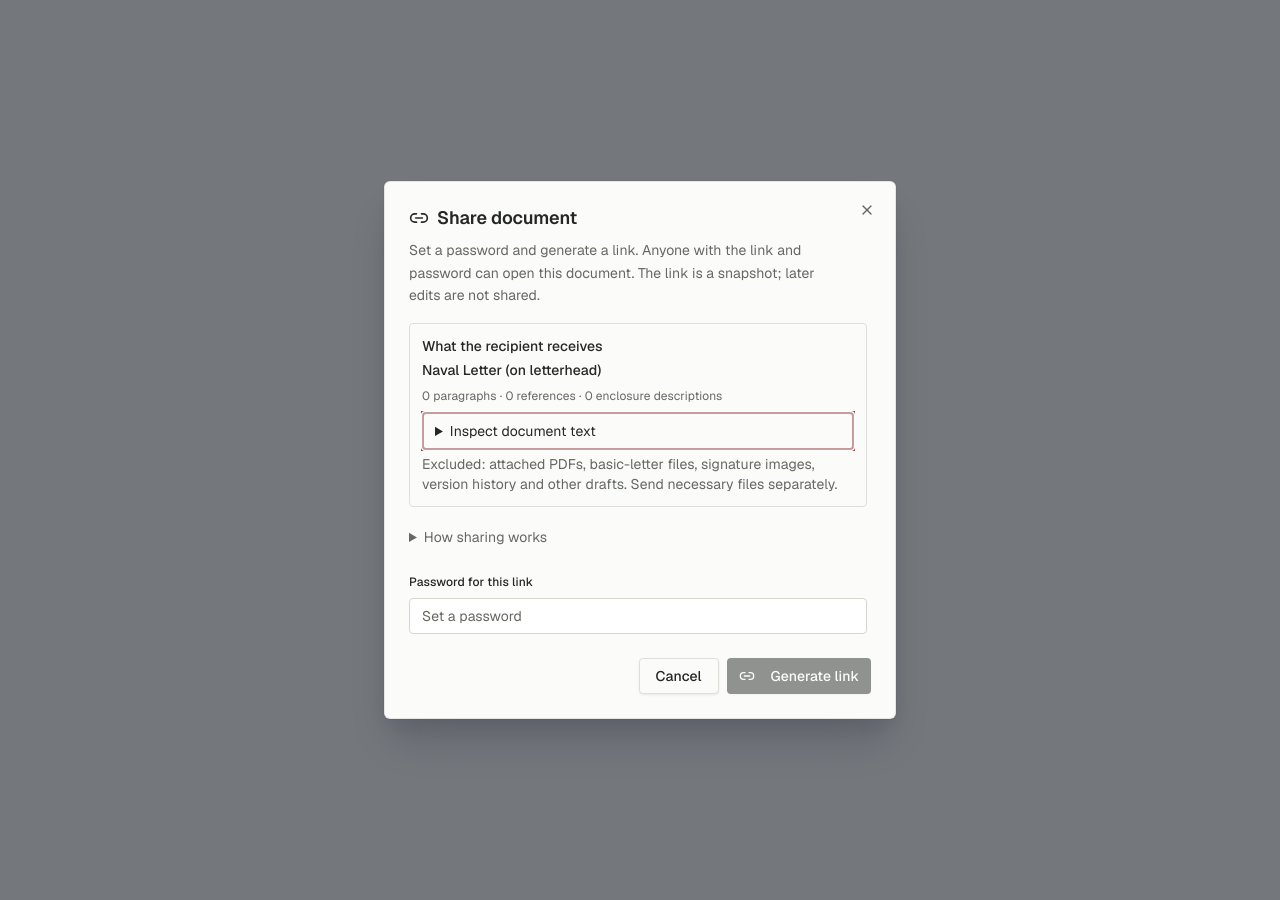
Test: ShareModal — share mode › encrypts the session, builds a link, and copies it to the clipboard
Type "hunter2" into the password field labelled "Password for this link" at point(638, 616), box 409,598 -> 867,634
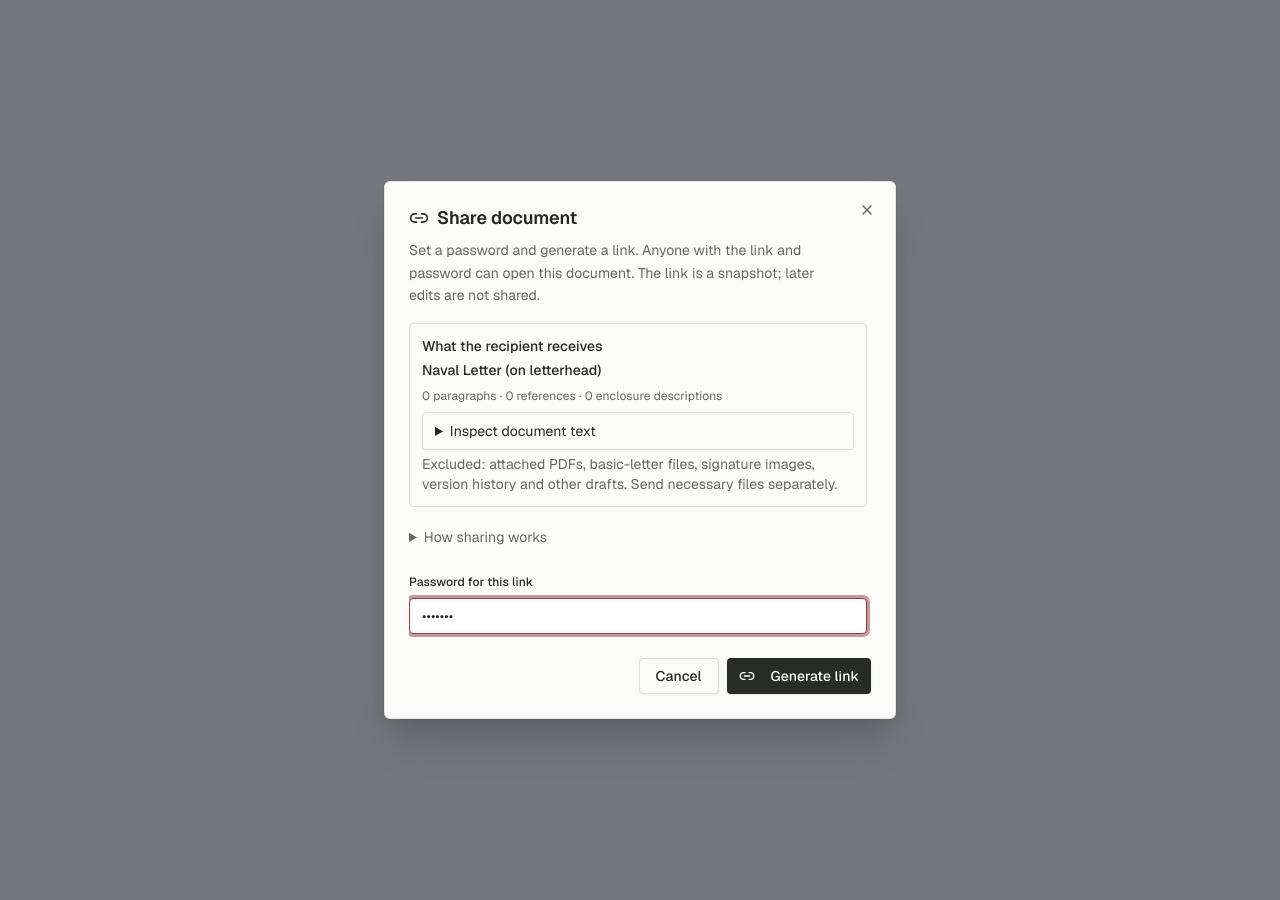
Click the button "Generate link" at point(799, 676), box 727,658 -> 871,694
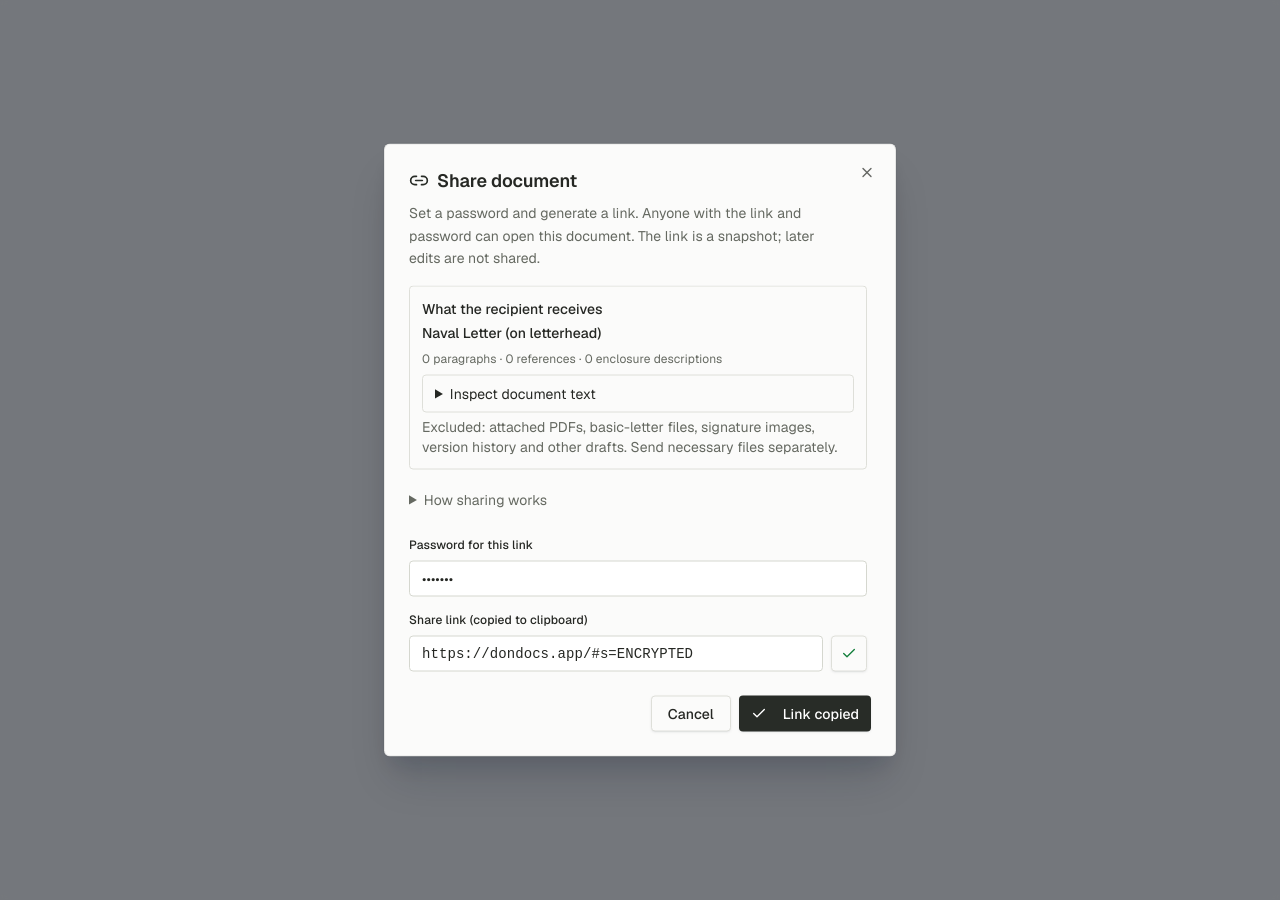
Now the field showing "https://dondocs.app/#s=ENCRYPTED" is shown, box 409,636 -> 823,672
